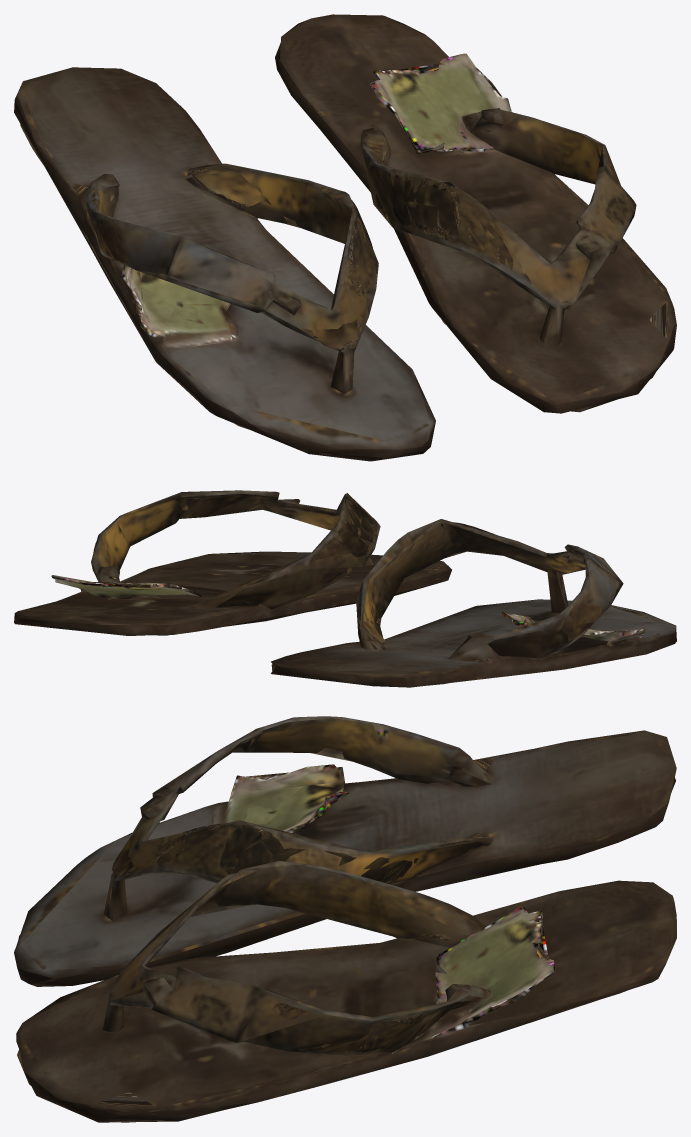
3 renders of one model, top to bottom at view 1: azimuth 30°, elevation 25°; view 2: azimuth 150°, elevation 25°; view 3: azimuth 270°, elevation 25°, orthographic. The views are drawn at different scales.
Visible parts, largest first — view 1: world; view 2: world; view 3: world.
Boxes of the visible parts, x1,y1,x2,y2 form: world: [14, 14, 676, 461]; world: [14, 490, 676, 687]; world: [14, 716, 676, 1122].
Size of the model in its own units: 0.2471 by 0.0823 by 0.26.
Materials: 1 (1 with a texture image).
